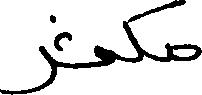X: (0, 10, 56, 94), (123, 0, 166, 67), (168, 0, 201, 66), (94, 40, 115, 71)
